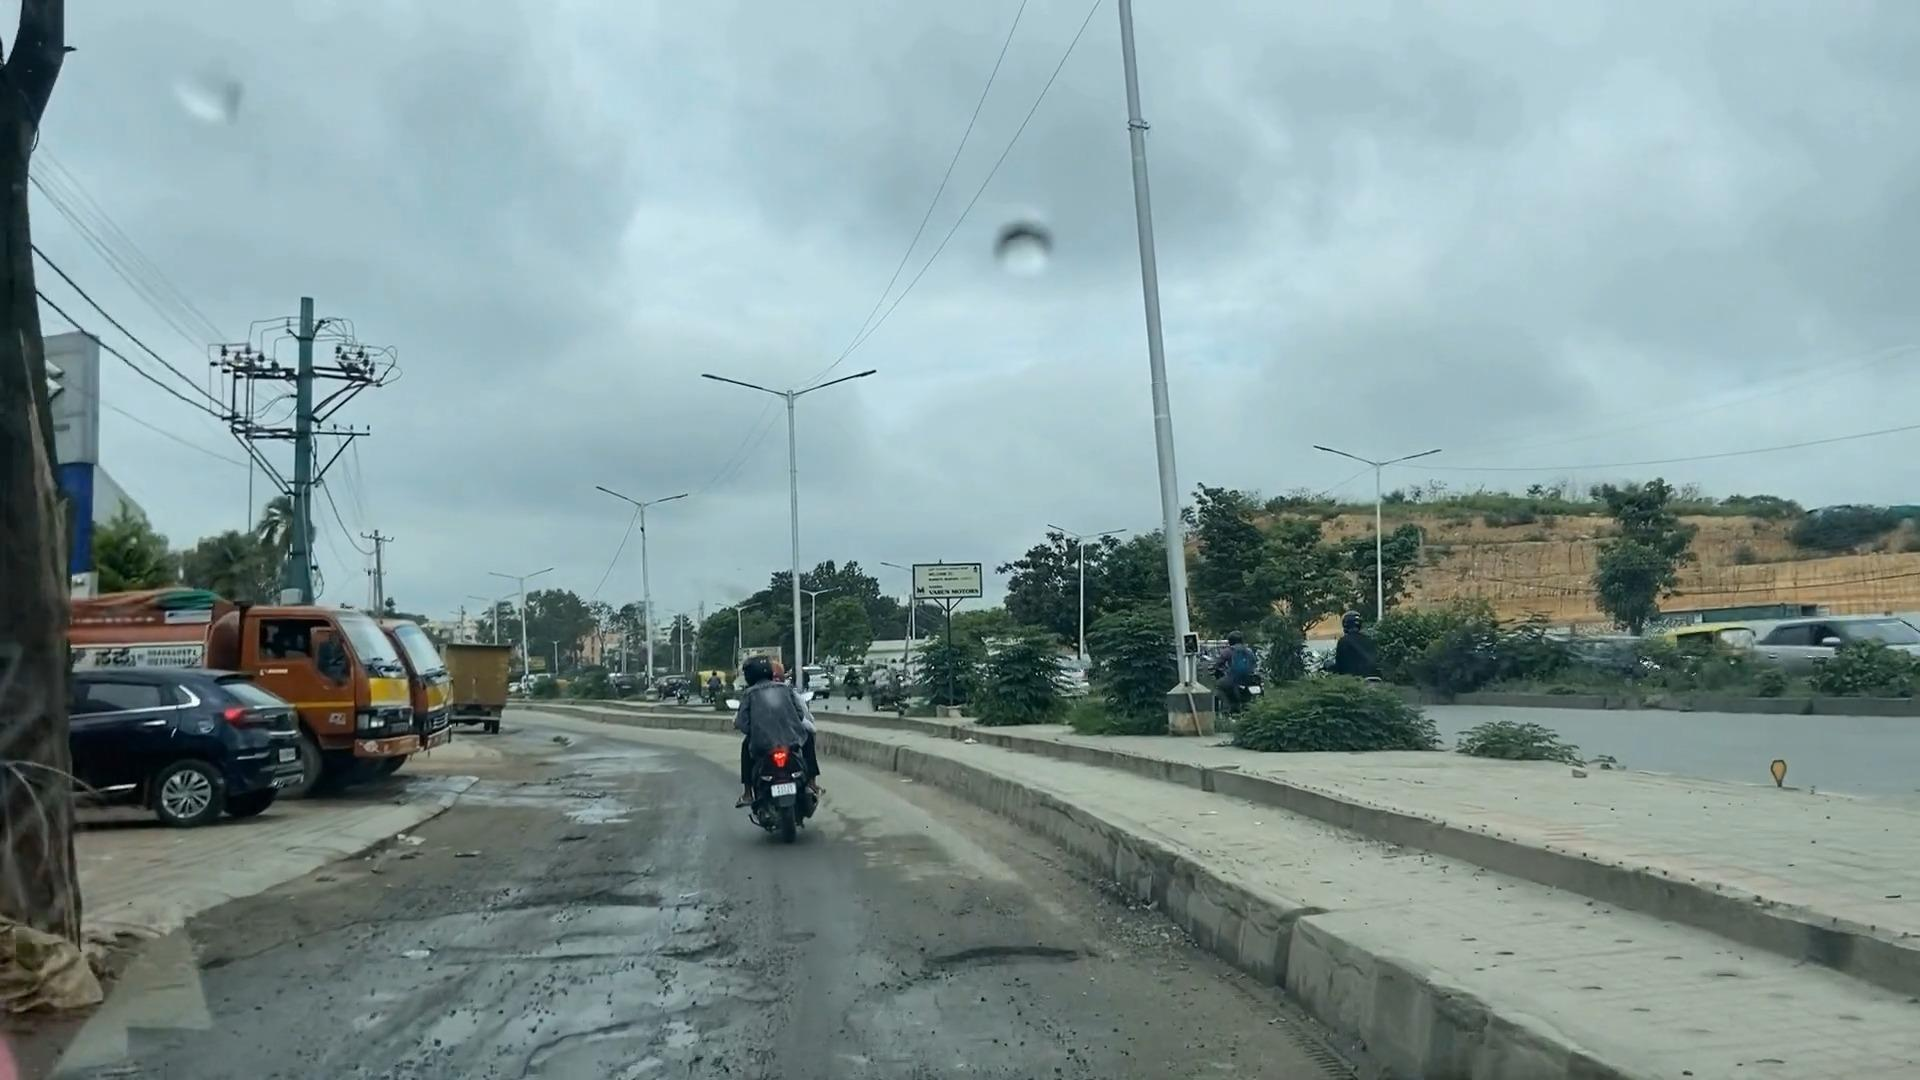LMV: (740, 659, 816, 827)
RoadDamages: (364, 997, 787, 1080), (443, 866, 712, 968), (914, 930, 1087, 993)
